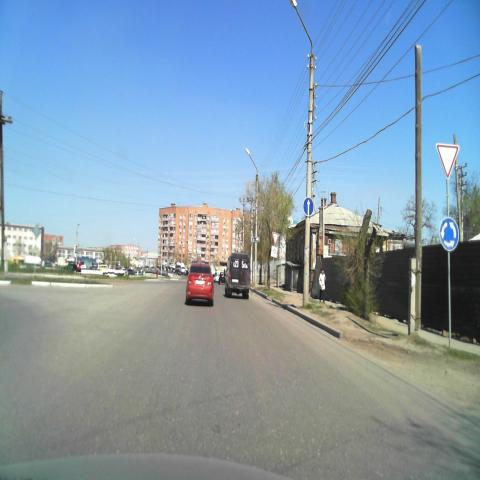4_3: (439, 217, 459, 251)
